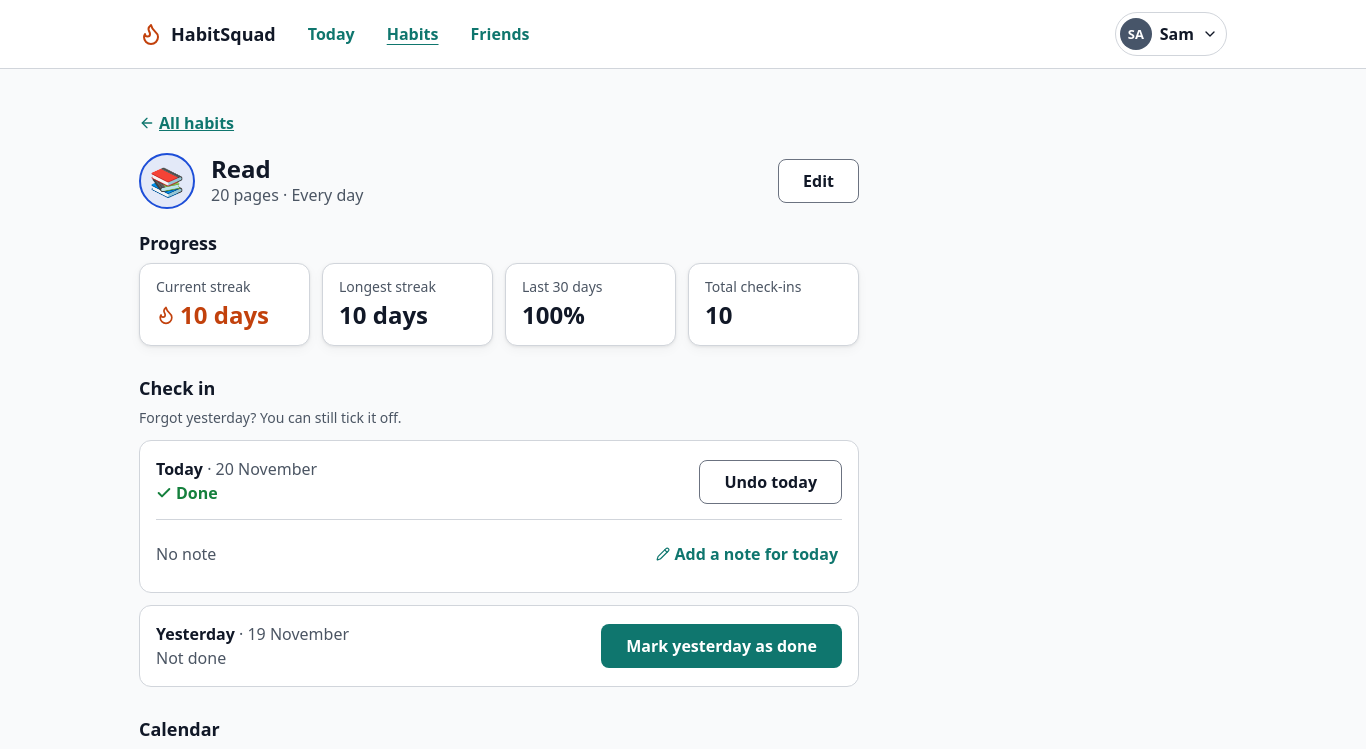
Scenario: HabitDetailPage › adds a note to a check-in
Expected: the heading "Read" is shown, [211,152,271,185]
Expected: the text "No note" is shown, [156,542,216,566]
Click the button "Add a note for today" at (747, 554), box [652,532,842,576]
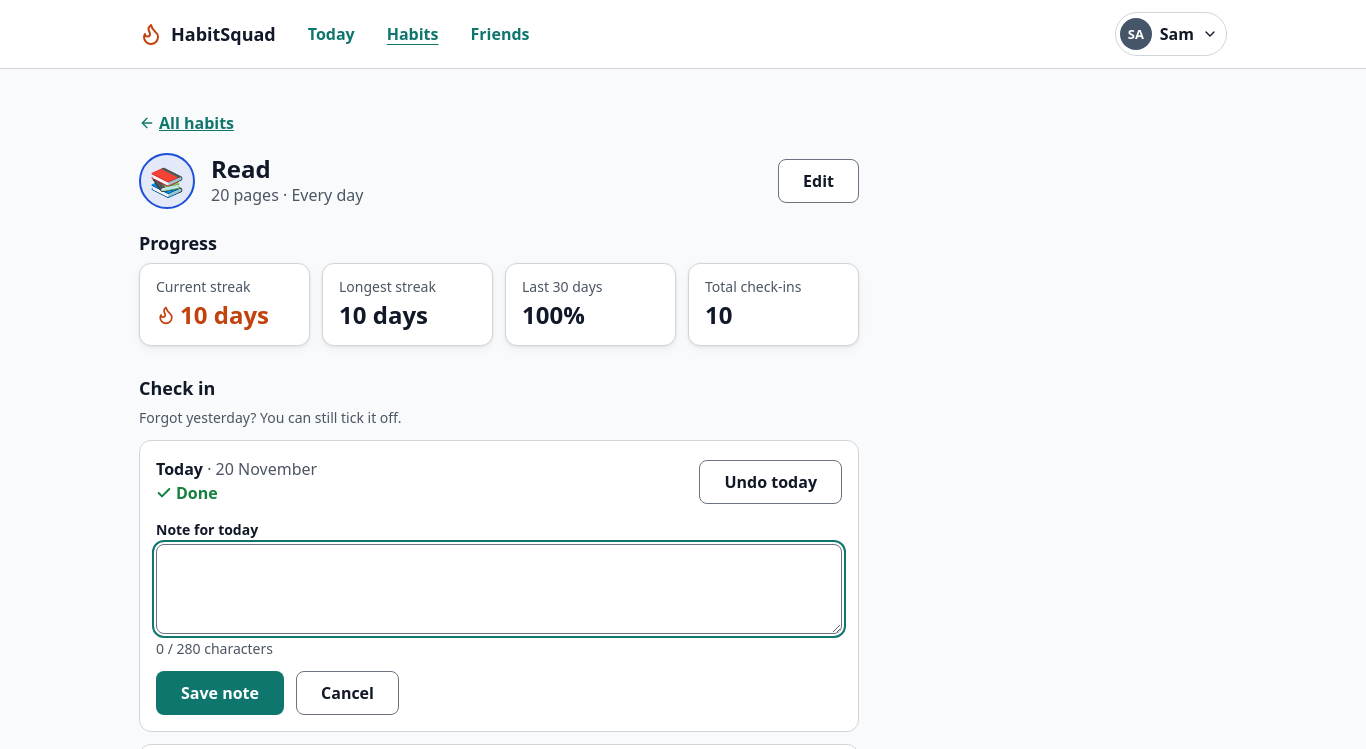
Type "  Read on the bus " into the text box labelled "Note for today" at (499, 589), box [156,544,842,634]
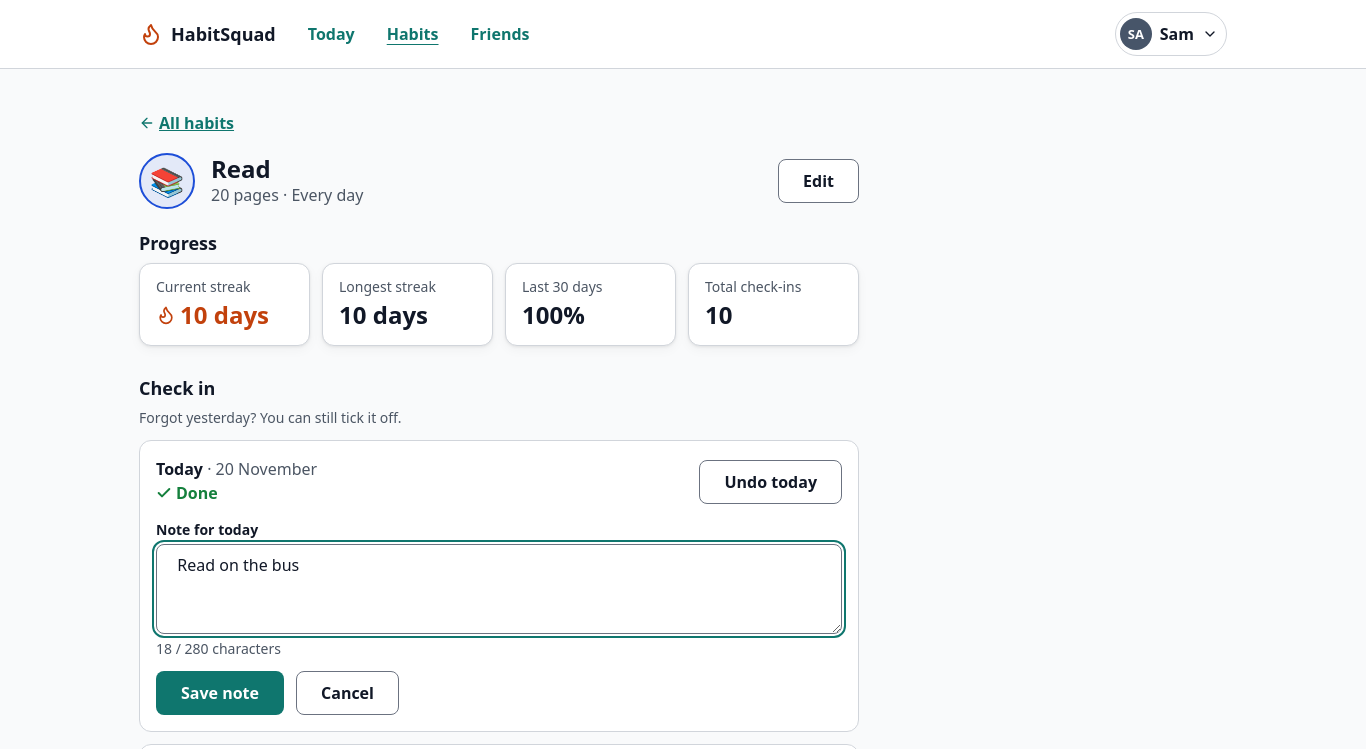
Click the button "Save note" at (220, 693), box [156,671,284,715]
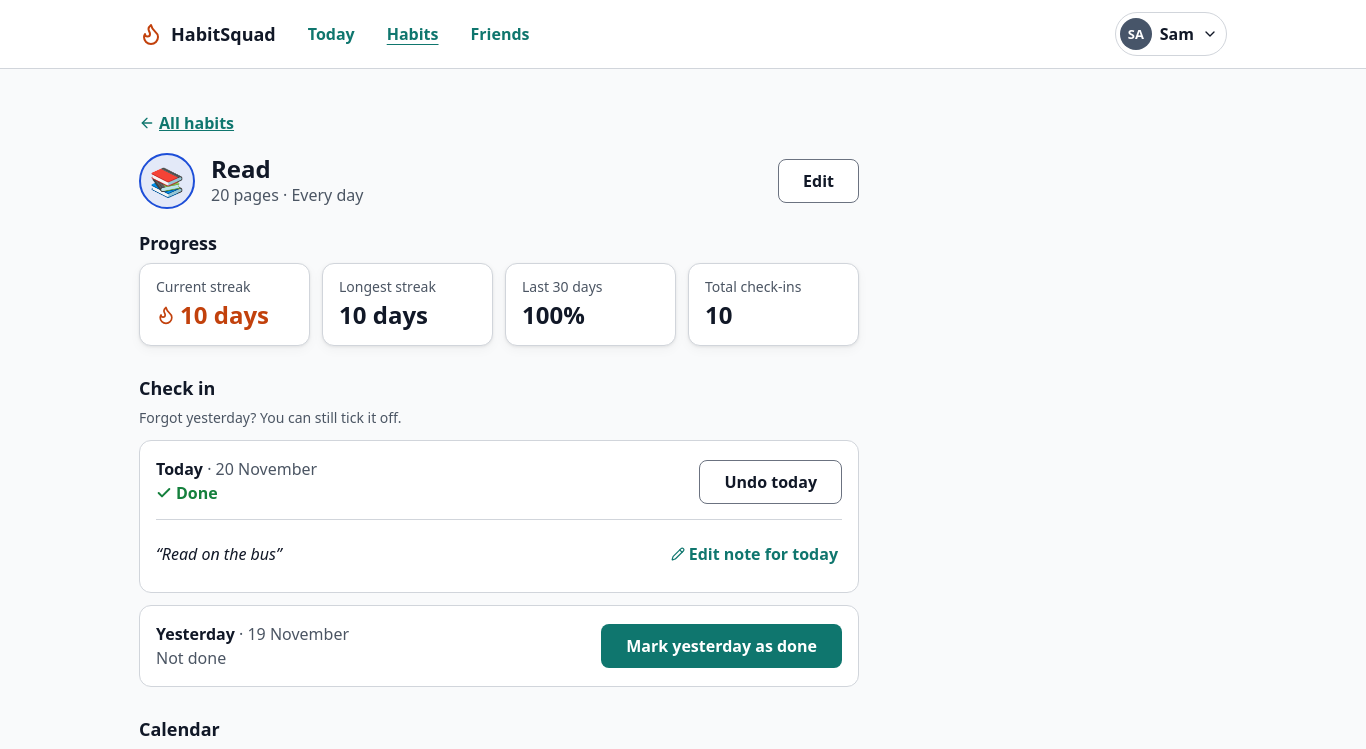
Expected: the text "“Read on the bus”" is shown, [156,542,282,566]
Expected: the button "Edit note for today" is shown, [667,532,842,576]
